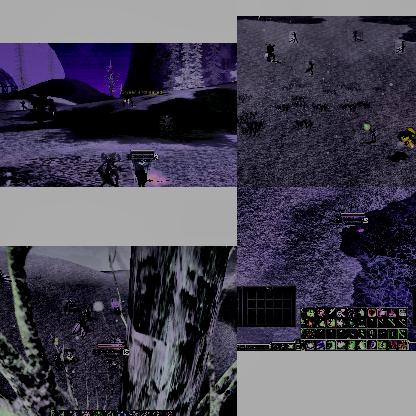caliana: (95, 151, 122, 187), (71, 320, 85, 338), (159, 115, 173, 131), (62, 298, 76, 314), (305, 60, 315, 76), (110, 300, 120, 316), (395, 40, 405, 54), (353, 30, 363, 42), (0, 269, 8, 284), (82, 309, 92, 321), (289, 31, 297, 43), (72, 107, 80, 117), (20, 100, 28, 110)
